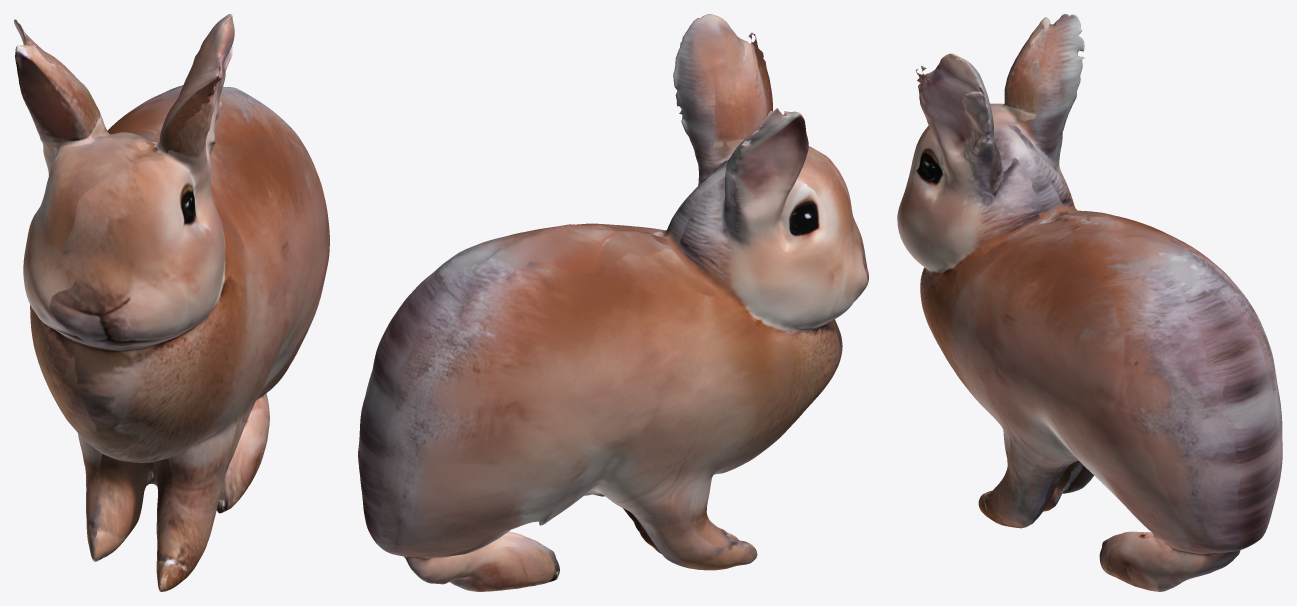
The model's file is joven.glb.
3 views of the same model, side by side, from view 1: azimuth 30°, elevation 25°; view 2: azimuth 150°, elevation 25°; view 3: azimuth 270°, elevation 25° (orthographic). The views are drawn at different scales.
Parts seen in each view (by area): view 1: mesh; view 2: mesh; view 3: mesh.
Part boxes in pixels (x1,y1,x2,y2): mesh: (14, 14, 329, 591); mesh: (358, 14, 868, 591); mesh: (897, 14, 1282, 591).
Bounding box in the file's own units: 1.28 × 1.77 × 1.28.
Materials: 1 (1 with a texture image).
